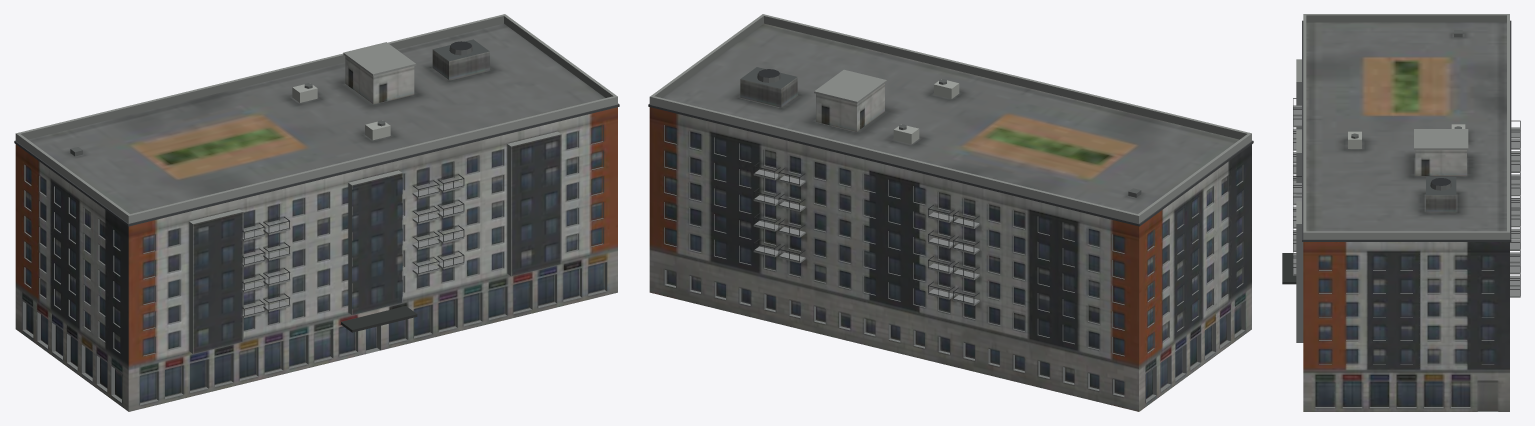
Rendered from seattle_podium_a.glb.
The picture shows the model from 3 angles, left to right: view 1: azimuth 30°, elevation 25°; view 2: azimuth 150°, elevation 25°; view 3: azimuth 270°, elevation 25°; orthographic projection. The views are drawn at different scales.
Parts seen in each view (by area): view 1: seattle_podium_a; view 2: seattle_podium_a; view 3: seattle_podium_a.
Part boxes in pixels (x1=…): seattle_podium_a: x1=14, y1=14, x2=619, y2=411; seattle_podium_a: x1=648, y1=14, x2=1253, y2=411; seattle_podium_a: x1=1282, y1=14, x2=1520, y2=411.
Bounding box in the file's own units: 60.24 × 25.67 × 27.6.
1 material, 1 textured.
